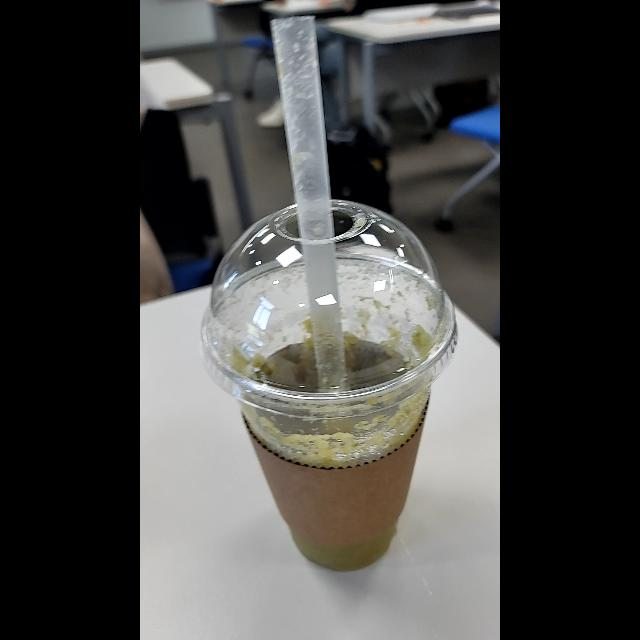plastic_cup: (202, 197, 458, 571)
plastic_cup_lid: (198, 198, 460, 422)
straw: (270, 22, 366, 390)
